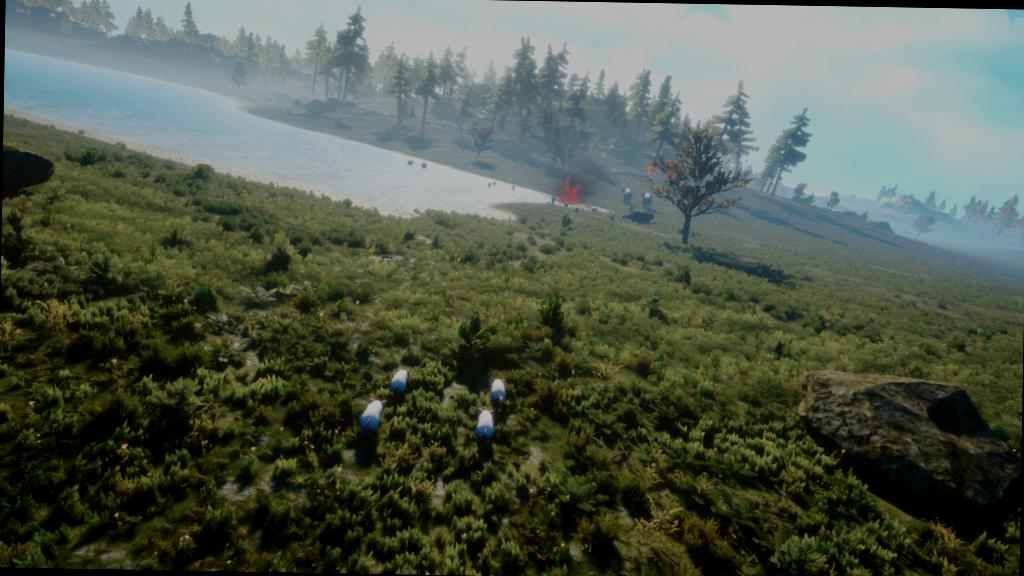Fire: (556, 179, 581, 208)
elephant: (638, 189, 656, 210), (620, 184, 632, 205)
pig: (350, 396, 389, 439), (385, 364, 415, 402), (474, 408, 501, 450), (486, 375, 512, 408)
